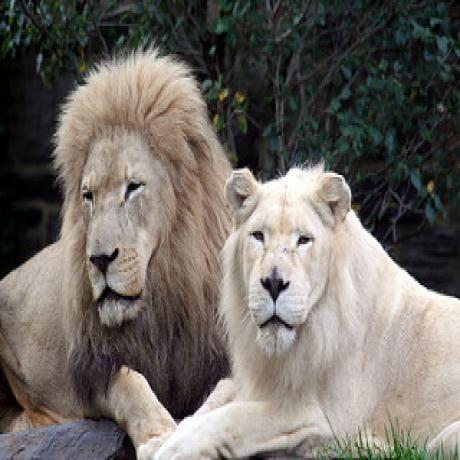Lion: (0, 44, 240, 448), (220, 157, 460, 460)
